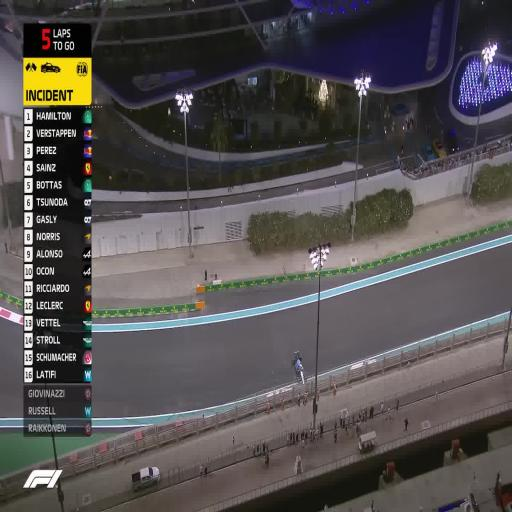f1_car: (288, 350, 310, 387)
